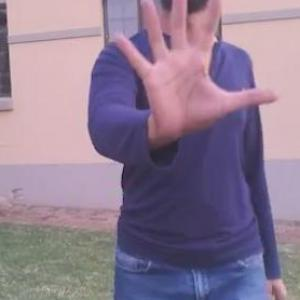follow_hand: (110, 0, 282, 148)
